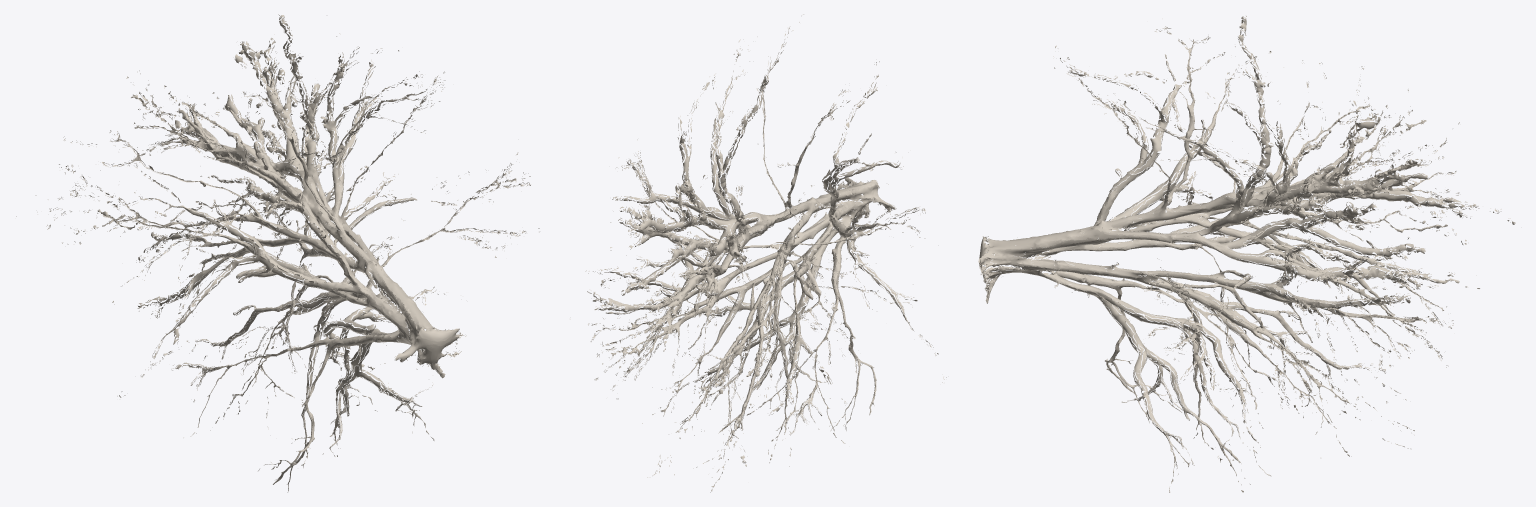
File: tree_1_cand04.glb
The picture shows the model from 3 angles, left to right: view 1: azimuth 30°, elevation 25°; view 2: azimuth 150°, elevation 25°; view 3: azimuth 270°, elevation 25°; orthographic projection. The views are drawn at different scales.
Parts seen in each view (by area): view 1: world; view 2: world; view 3: world.
Part boxes in pixels (<box>): world: <box>16,14,539,492</box>; world: <box>570,14,946,492</box>; world: <box>978,16,1515,492</box>.
Bounding box in the file's own units: 1.82 × 1.88 × 2.06.
